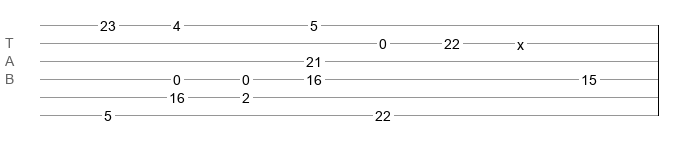0: (173, 72, 181, 82), (242, 72, 250, 82), (379, 36, 387, 46)
15: (581, 72, 597, 82)
16: (169, 90, 185, 100), (306, 72, 322, 82)
2: (242, 90, 250, 100)
21: (306, 54, 322, 64)
22: (375, 108, 391, 118), (444, 36, 460, 46)
23: (100, 18, 116, 28)
4: (173, 18, 181, 28)
5: (104, 108, 112, 118), (310, 18, 318, 28)
x: (517, 37, 524, 45)
